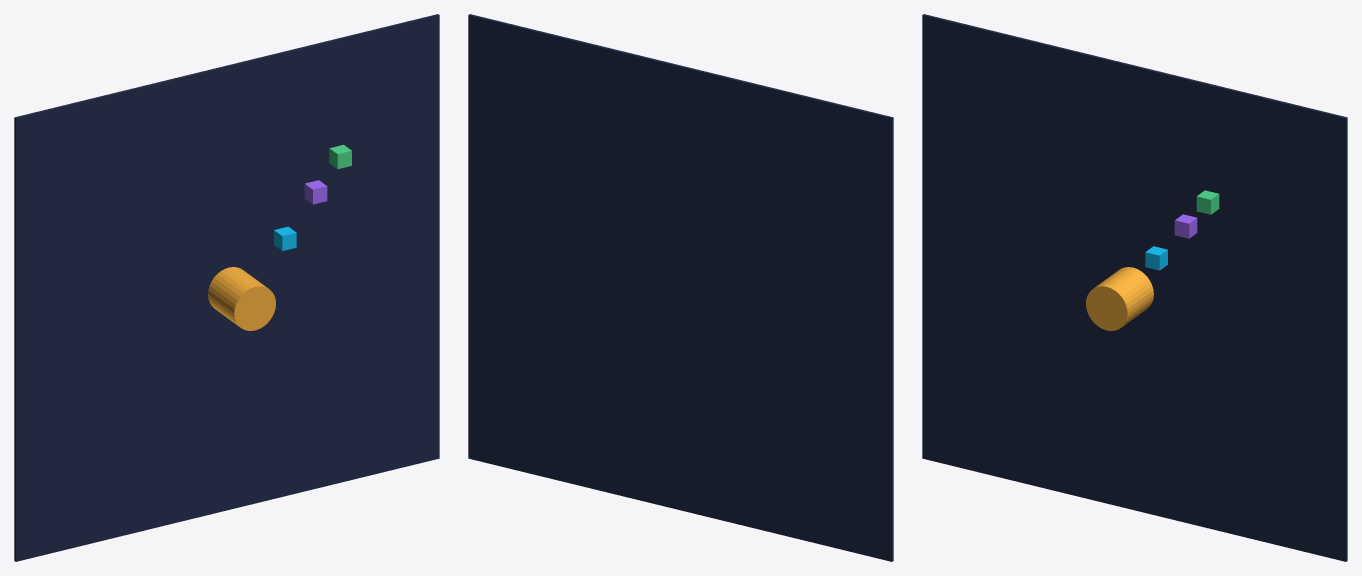
The picture shows the model from 3 angles, left to right: view 1: azimuth 30°, elevation 25°; view 2: azimuth 150°, elevation 25°; view 3: azimuth 330°, elevation 25°; orthographic projection.
Visible parts, largest first — view 1: physics-orbits; view 2: physics-orbits; view 3: physics-orbits.
Boxes of the visible parts, <box> form: physics-orbits: <box>14,14,439,561</box>; physics-orbits: <box>468,14,893,561</box>; physics-orbits: <box>922,14,1347,561</box>.
Size of the model in its own units: 6.5 by 6.5 by 0.77.
